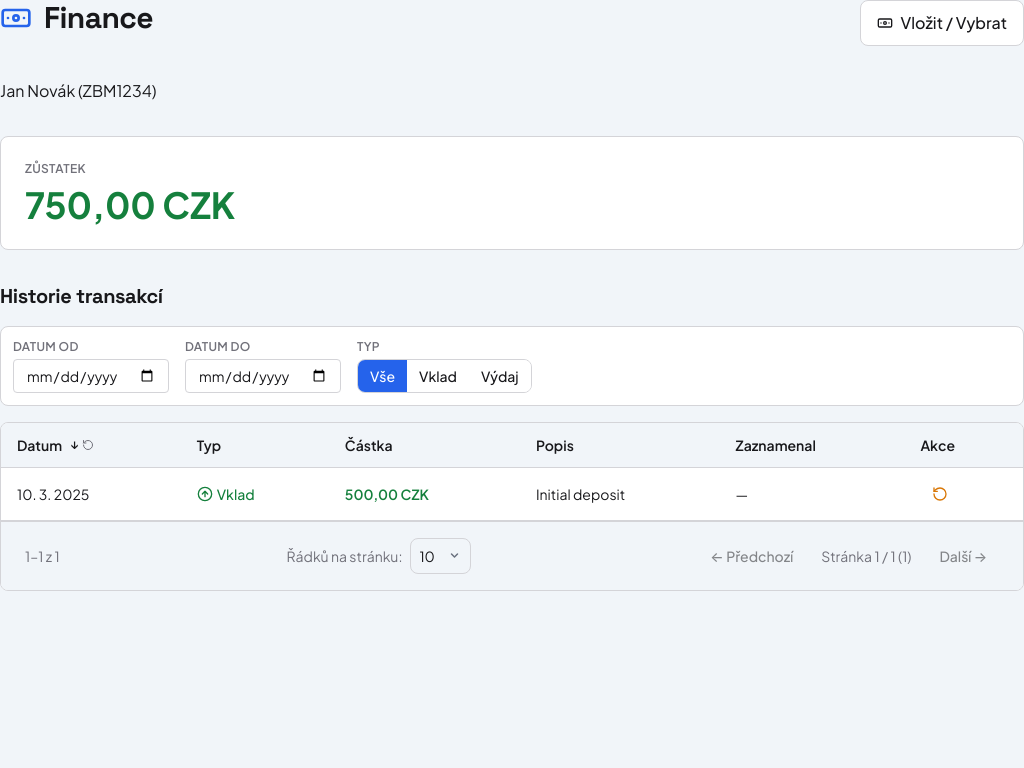
Test: MemberAccountManagePage › With FINANCE:MANAGE affordances › should open reverse confirm modal when reverse action button is clicked
Click the button named "Stornovat" at (940, 494), box x1=920 y1=480 x2=960 y2=508
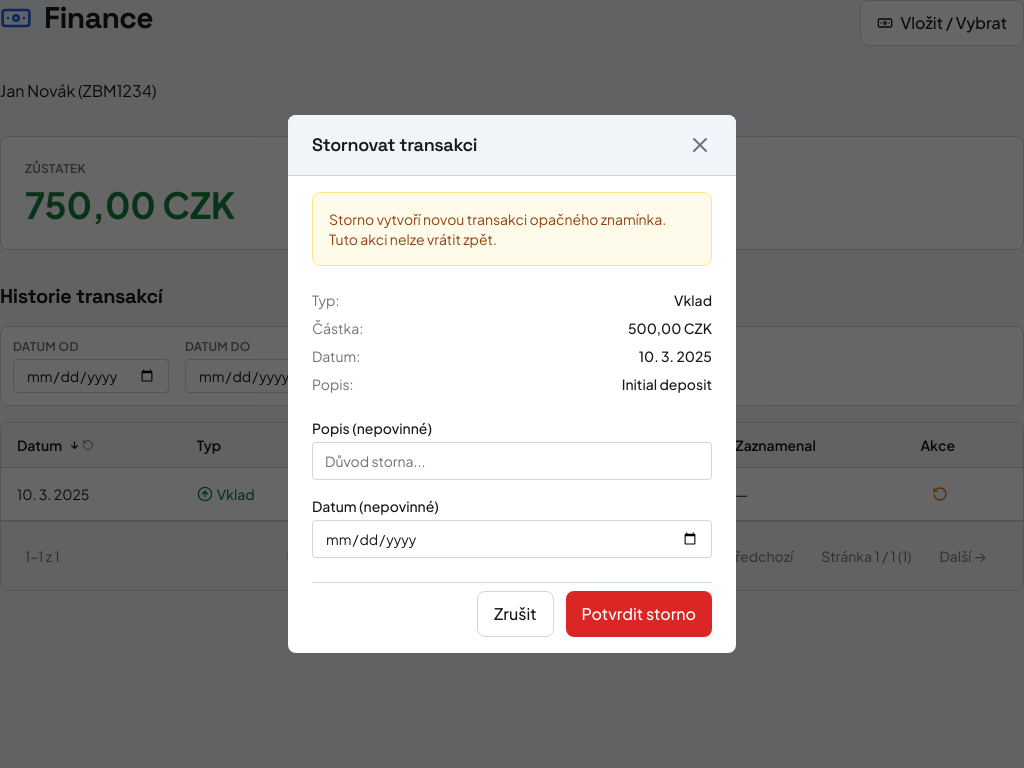
expect the heading "Stornovat transakci" is shown: met, box x1=312 y1=131 x2=477 y2=159
